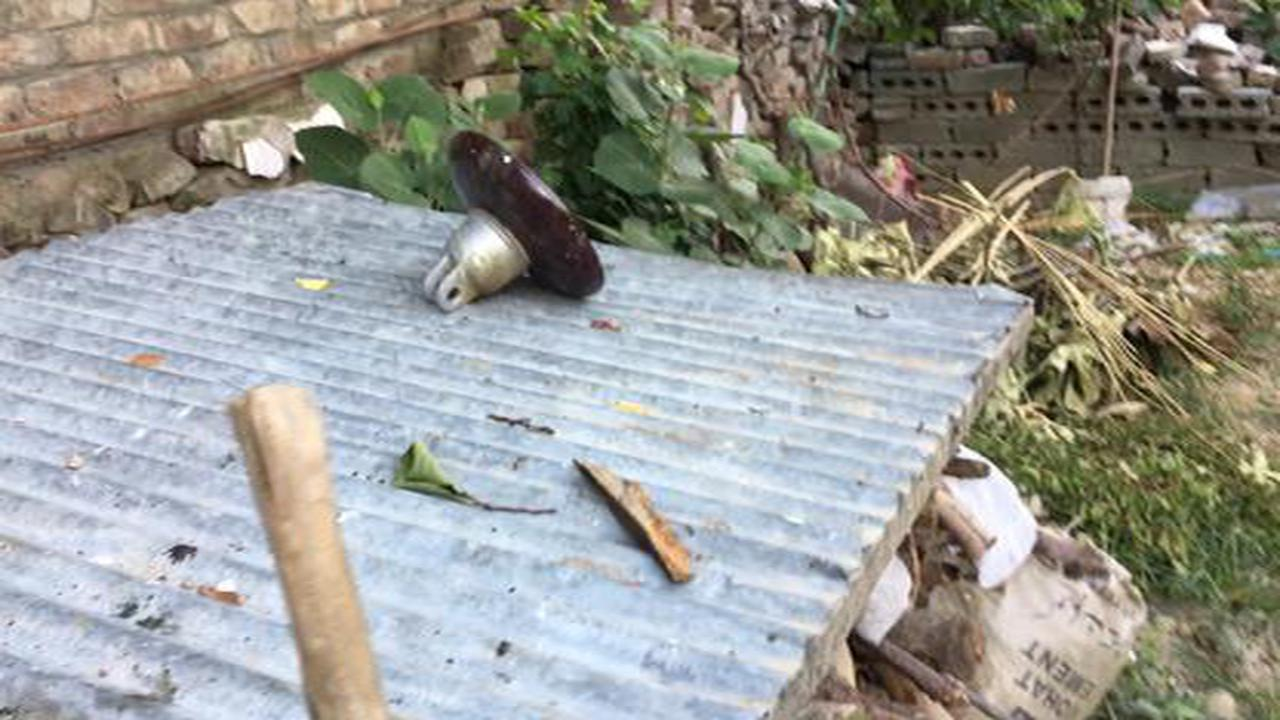insulator_disc: (419, 123, 611, 320)
